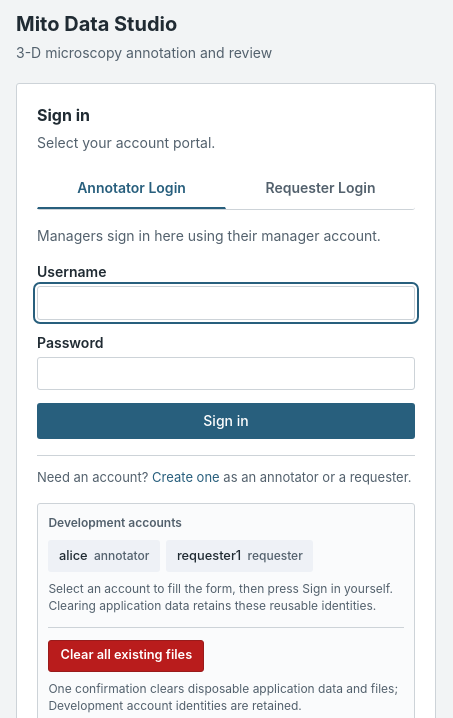
Test: development account login helper › clears after one confirmation without changing or signing in the account form
This screenshot has width=453, height=718.
Click the button "alice annotator". click: click(104, 556)
box: left=48, top=540, right=160, bottom=572
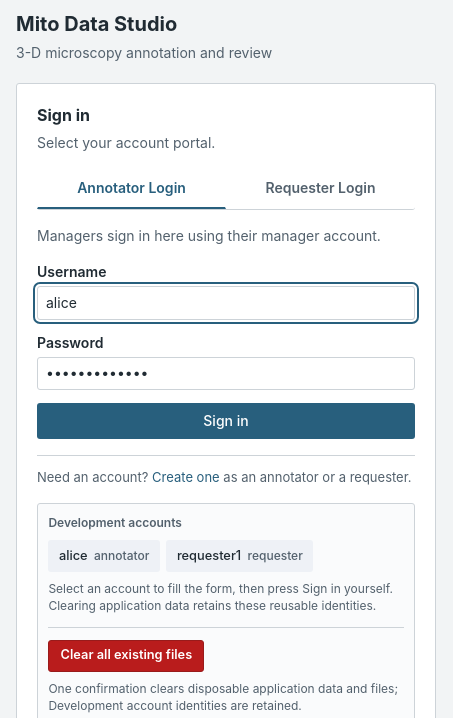
Click the button "Clear all existing files". click: click(126, 656)
box: left=48, top=640, right=204, bottom=672
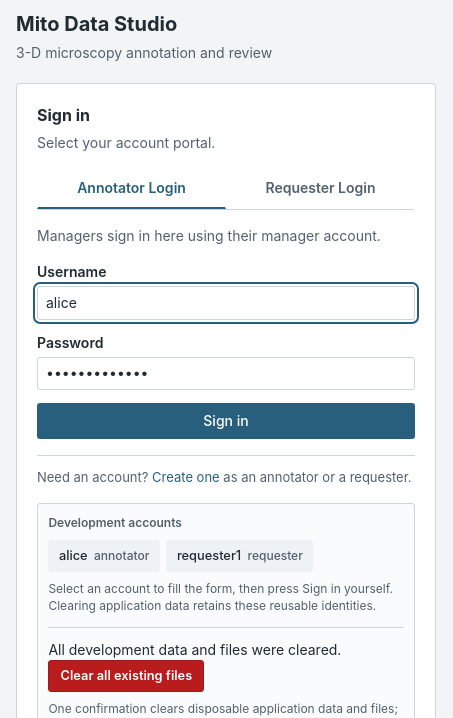
Check: the field labelled "Username" holds "alice", box left=37, top=286, right=415, bottom=320
Check: the password field labelled "Password" holds "demo-password", box left=37, top=357, right=415, bottom=390
Check: the text "All development data and files were cleared." is shown, box left=48, top=641, right=341, bottom=658
